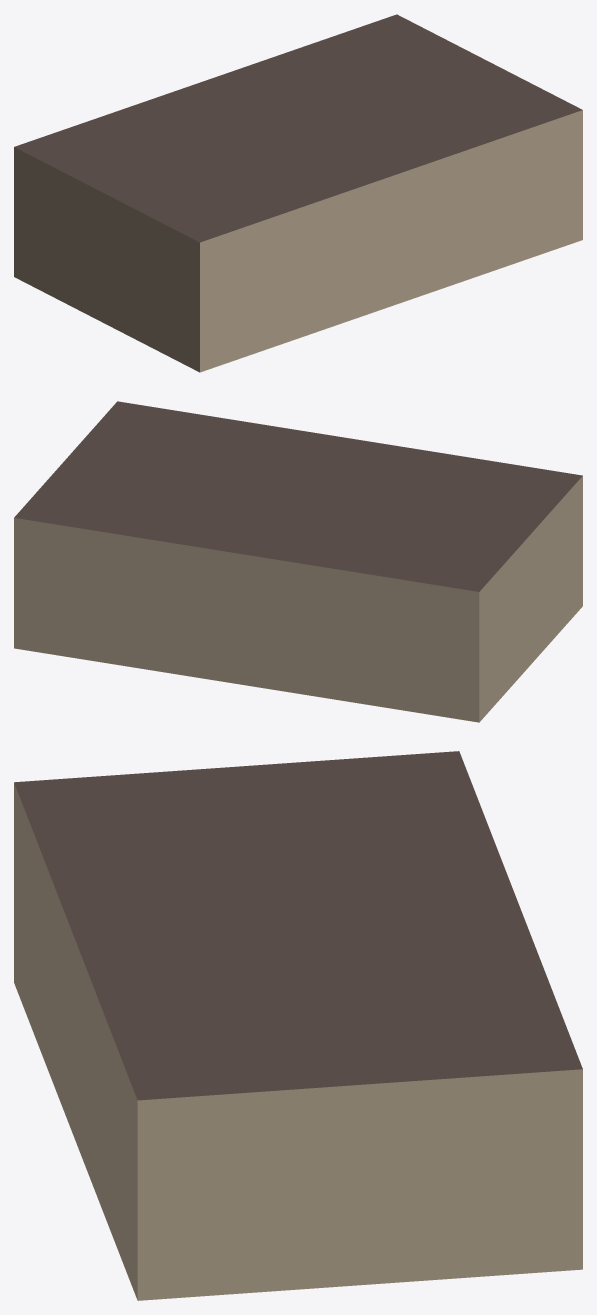
3 views of the same model, one above another, from view 1: azimuth 30°, elevation 25°; view 2: azimuth 150°, elevation 25°; view 3: azimuth 270°, elevation 25° (orthographic). The views are drawn at different scales.
Visible parts, largest first — view 1: HP-w1286965262; view 2: HP-w1286965262; view 3: HP-w1286965262.
Part boxes in pixels (x1,y1,x2,y2): HP-w1286965262: [14, 14, 582, 372]; HP-w1286965262: [14, 401, 582, 722]; HP-w1286965262: [14, 751, 582, 1300].
Size of the model in its own units: 33.65 by 9 by 23.16.
